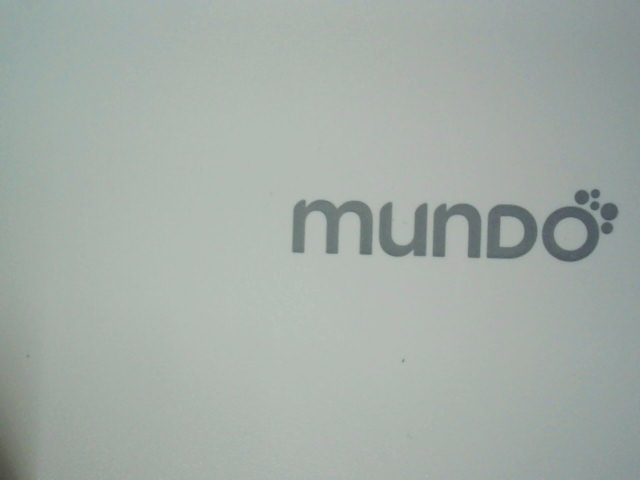BI_MUNDO: (282, 168, 622, 267)
